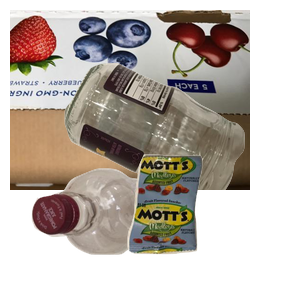cardboard: (10, 10, 250, 190)
glass: (62, 60, 300, 240)
plastic: (29, 166, 183, 300)
trash: (125, 152, 300, 300)
